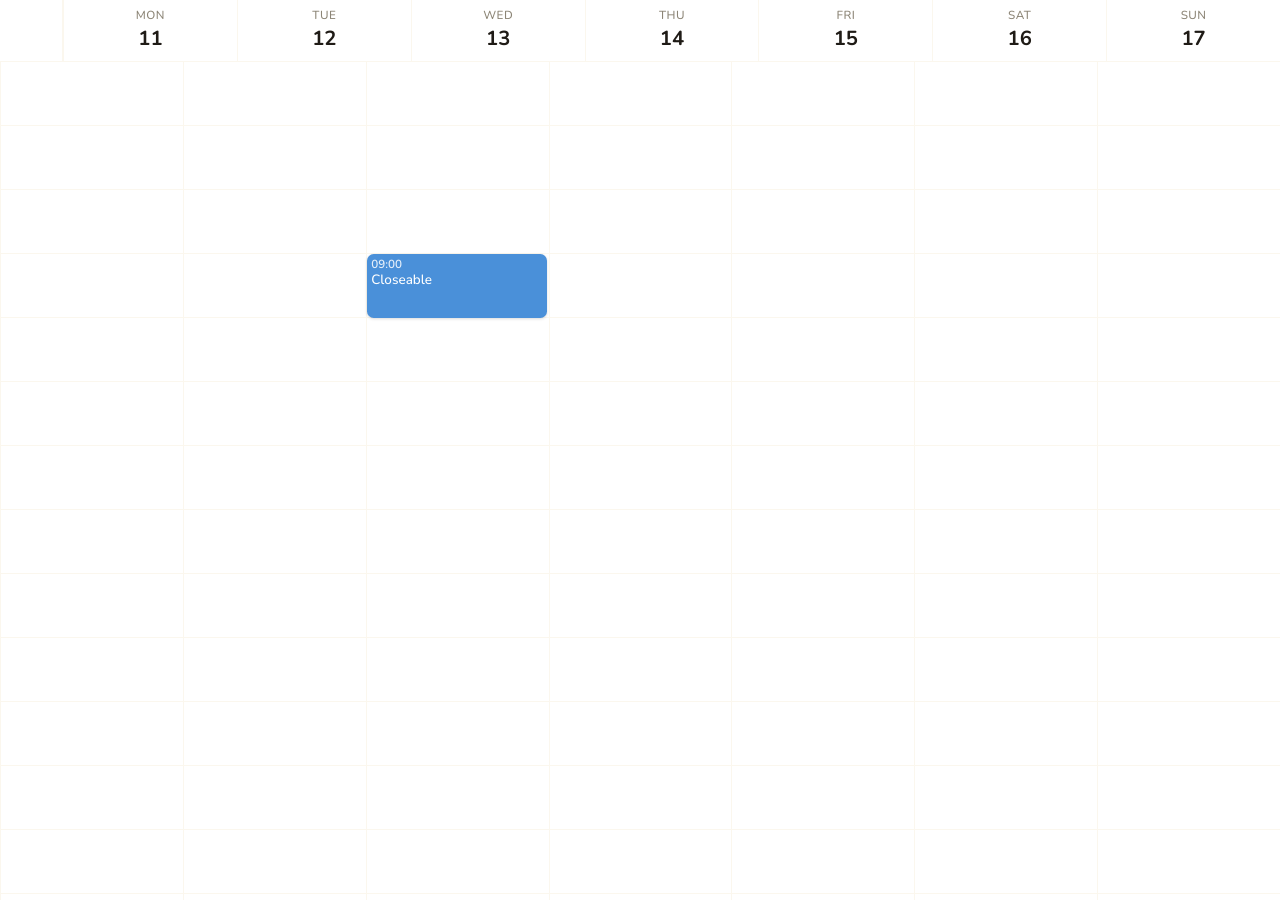
Test: WeekView — events › closing the detail modal removes it
Click the button "09:00 Closeable" at (457, 286), box [367,254,547,318]
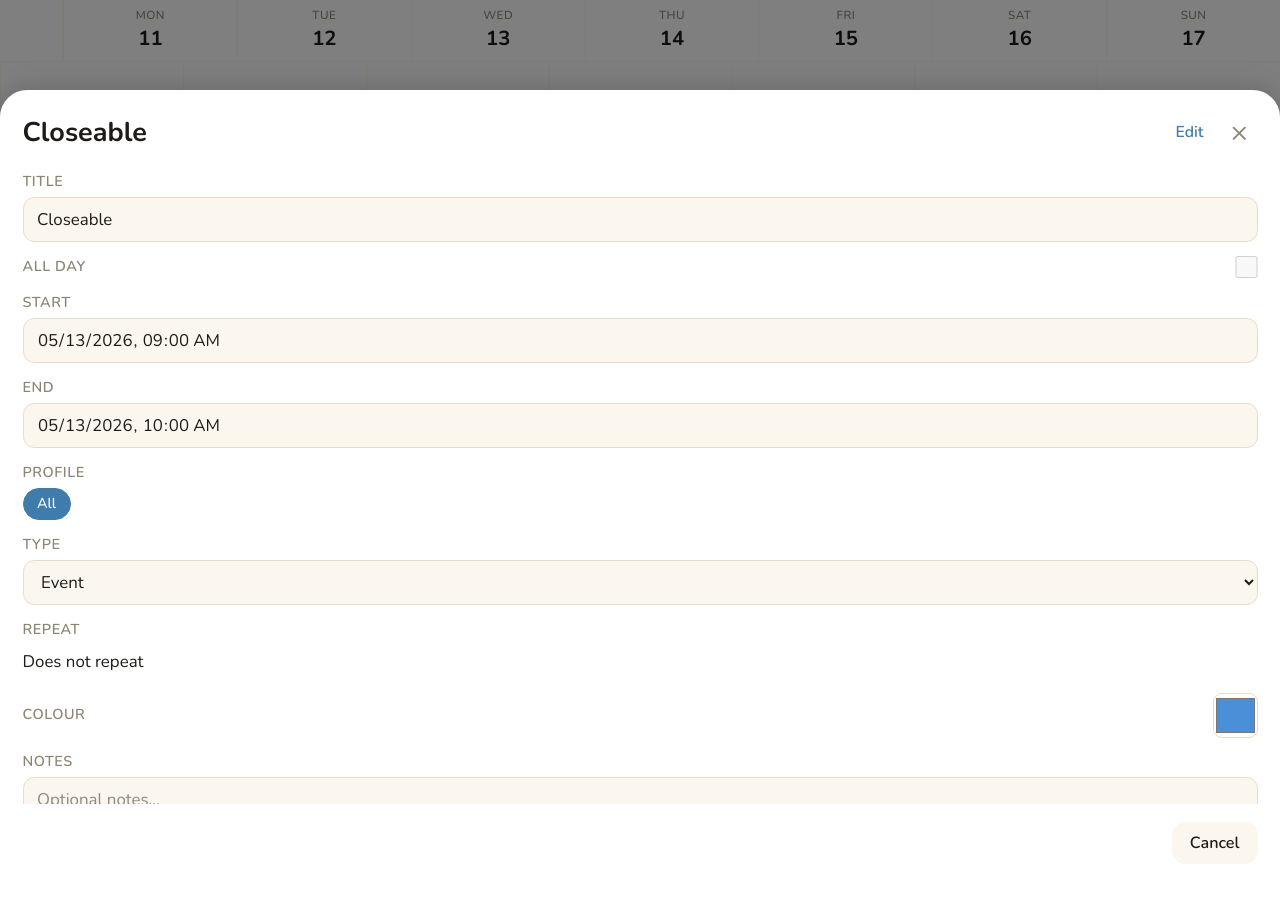
Click the button named "Close" at (1240, 133), box [1222,115,1258,151]
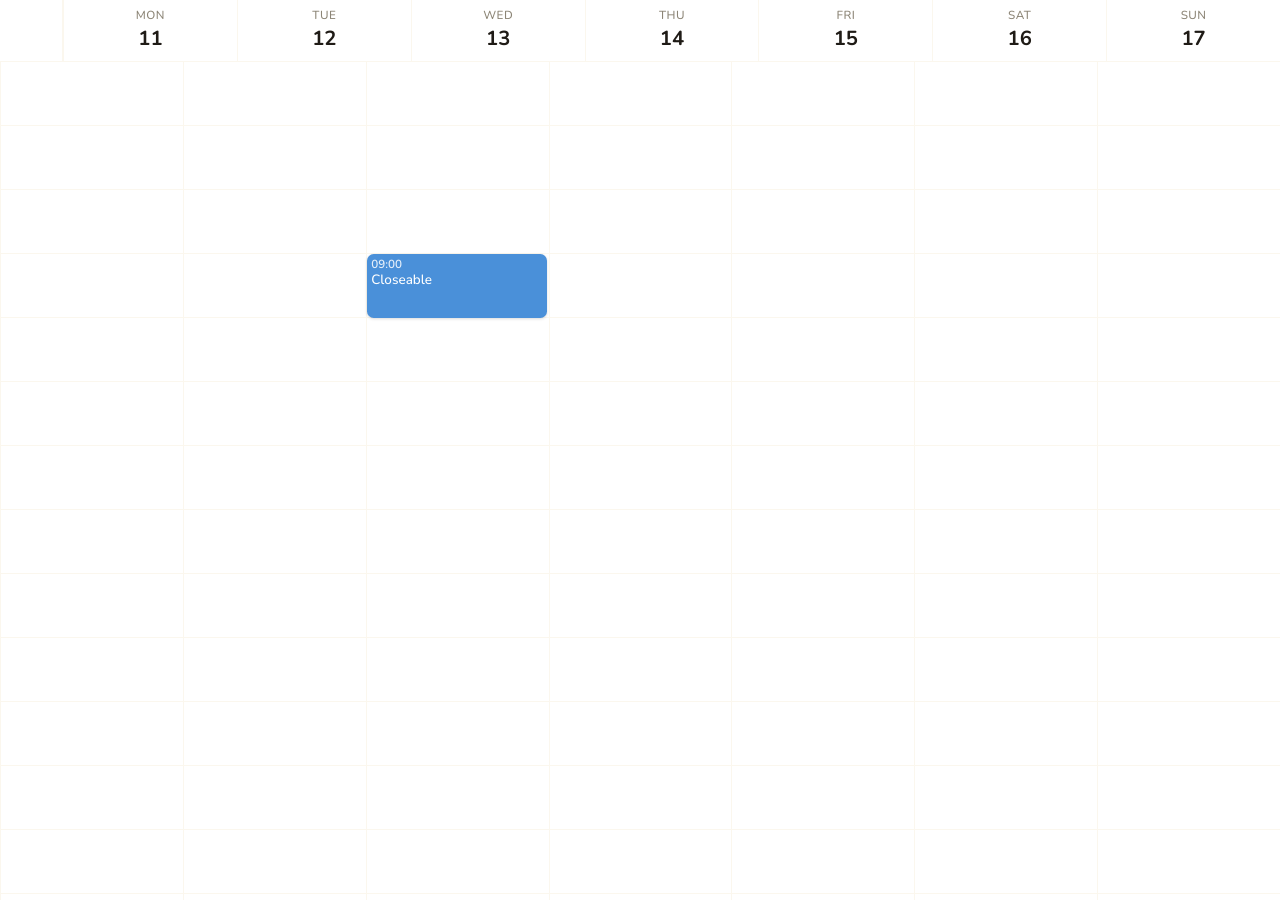
Expected: the dialog is gone
